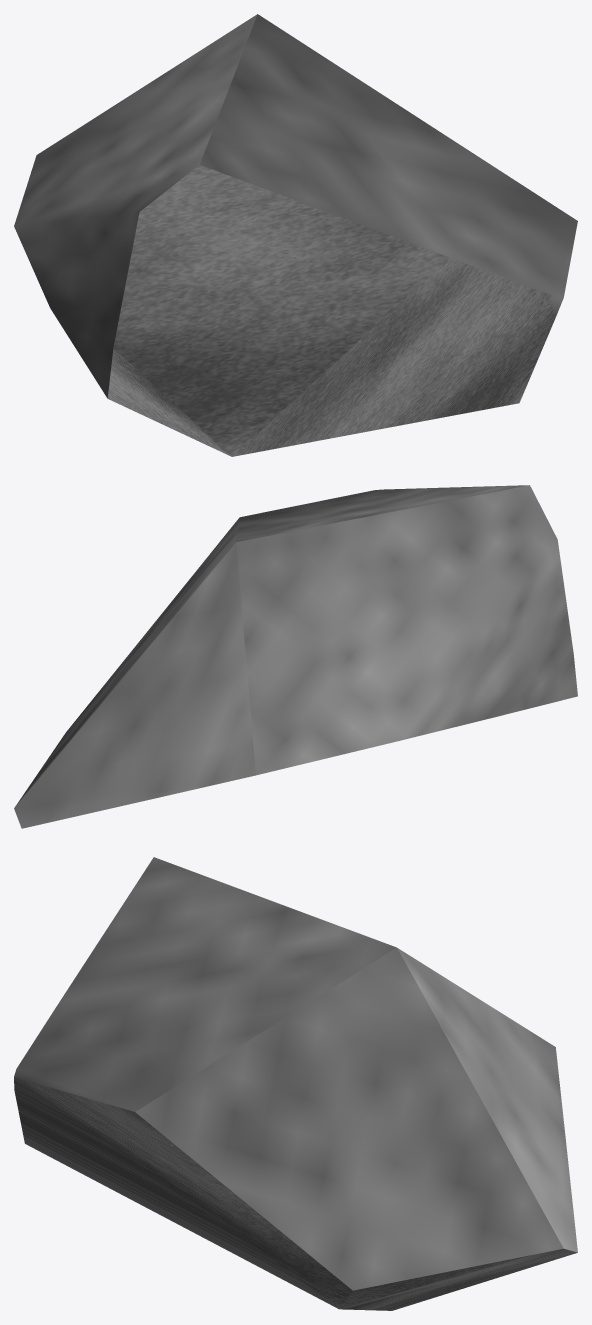
Rendered from leg_1_cell_015.fbx.
3 views of the same model, one above another, from view 1: azimuth 30°, elevation 25°; view 2: azimuth 150°, elevation 25°; view 3: azimuth 270°, elevation 25° (orthographic). The views are drawn at different scales.
Parts seen in each view (by area): view 1: leg_1_cell.015; view 2: leg_1_cell.015; view 3: leg_1_cell.015.
Part boxes in pixels (x1,y1,x2,y2): leg_1_cell.015: (14,14,577,456); leg_1_cell.015: (14,485,577,828); leg_1_cell.015: (14,857,577,1310).
Size of the model in its own units: 30.07 by 20.94 by 35.03.
